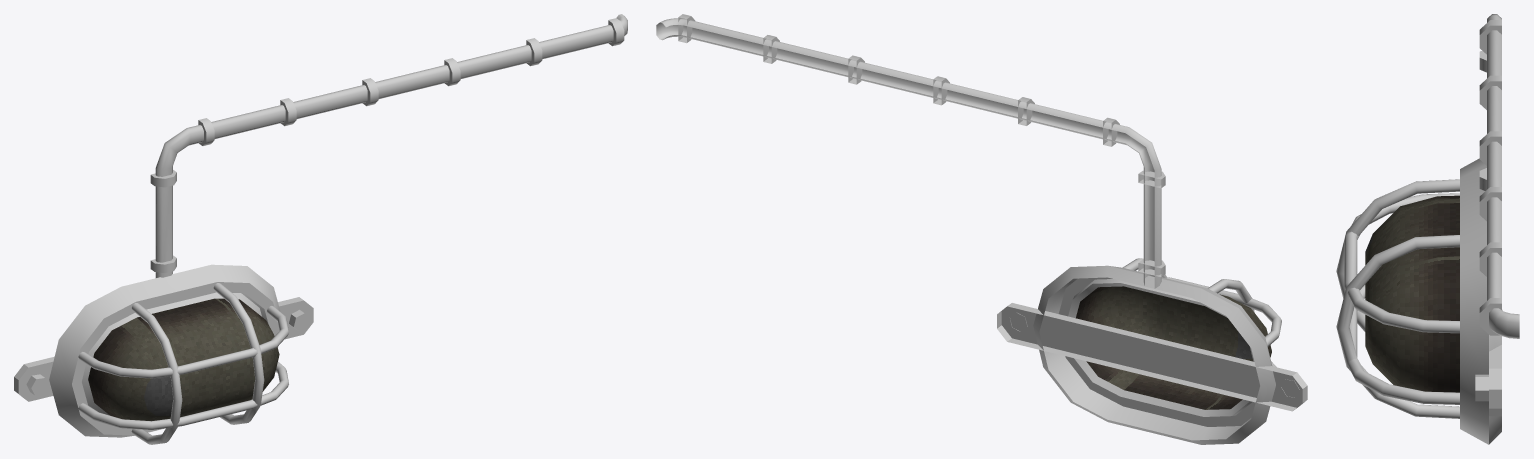
Rendered from lamp_1_off.fbx.
The picture shows the model from 3 angles, left to right: view 1: azimuth 30°, elevation 25°; view 2: azimuth 150°, elevation 25°; view 3: azimuth 270°, elevation 25°; orthographic projection. The views are drawn at different scales.
Visible parts, largest first — view 1: lamp_1_off; view 2: lamp_1_off; view 3: lamp_1_off.
Boxes of the visible parts, x1,y1,x2,y2 form: lamp_1_off: [14, 14, 627, 444]; lamp_1_off: [656, 14, 1307, 444]; lamp_1_off: [1336, 14, 1519, 444].
Size of the model in its own units: 0.7532 by 0.1393 by 0.343.
